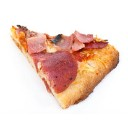pepperonipizza: (11, 23, 119, 108)
